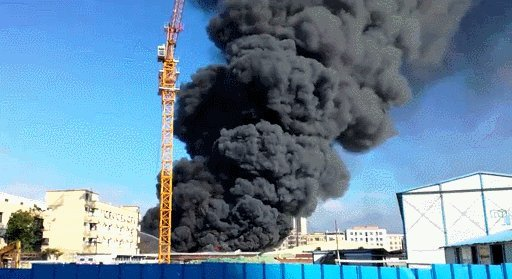smoke: (168, 5, 431, 231)
